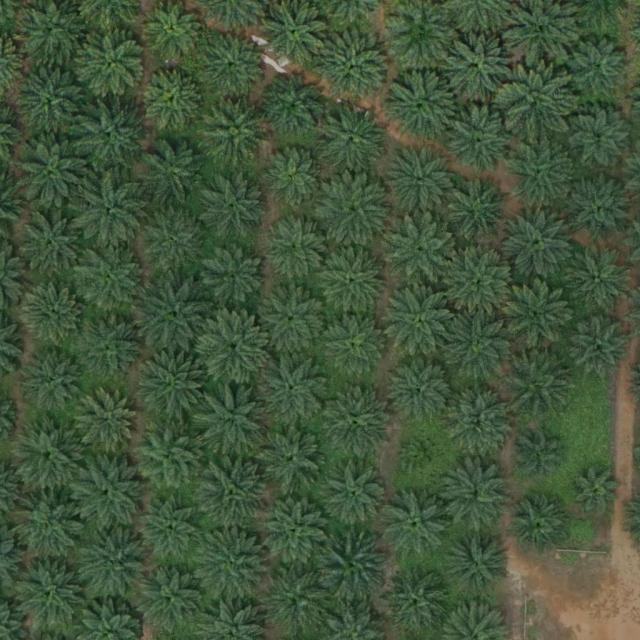Healthy: (319, 32, 390, 103), (385, 145, 456, 216), (386, 286, 457, 357), (320, 176, 391, 247), (141, 281, 212, 352), (75, 101, 146, 172), (14, 559, 85, 630), (260, 566, 331, 637), (379, 566, 450, 637), (77, 29, 147, 100), (199, 96, 269, 167), (388, 69, 458, 140), (562, 242, 633, 312), (504, 209, 574, 280), (507, 279, 577, 350), (506, 346, 576, 417), (447, 105, 517, 176), (447, 249, 518, 319), (445, 386, 515, 457), (317, 105, 388, 175), (321, 248, 391, 319), (262, 355, 332, 426), (198, 173, 268, 244), (140, 136, 210, 207), (137, 351, 207, 422), (77, 177, 147, 248), (76, 314, 146, 385), (16, 207, 86, 278), (12, 420, 82, 491), (133, 421, 203, 492), (137, 562, 207, 633), (199, 458, 269, 529), (199, 531, 269, 602), (262, 498, 332, 569), (381, 490, 452, 560), (441, 463, 512, 533), (19, 64, 89, 134), (197, 32, 267, 102), (445, 28, 515, 98), (502, 67, 572, 137), (506, 140, 576, 210), (444, 308, 514, 378), (388, 218, 458, 288), (322, 389, 392, 459), (259, 287, 329, 357), (200, 313, 270, 383), (198, 383, 268, 453), (138, 207, 208, 277), (77, 244, 147, 314), (18, 138, 88, 208), (14, 493, 84, 563), (76, 458, 146, 528), (79, 528, 149, 598), (258, 424, 328, 494), (319, 534, 389, 604), (444, 528, 514, 598), (569, 110, 632, 173), (569, 175, 632, 238), (450, 179, 513, 242), (20, 284, 83, 347), (325, 464, 388, 527), (143, 69, 205, 132), (262, 74, 324, 137), (568, 36, 630, 99), (570, 317, 632, 380), (391, 359, 453, 422), (324, 316, 387, 378), (262, 149, 325, 211), (265, 220, 328, 282), (205, 247, 267, 310), (78, 389, 140, 452), (24, 350, 86, 413), (140, 500, 202, 563), (513, 498, 568, 553), (519, 435, 566, 483), (572, 467, 619, 514)
Small: (404, 437, 443, 477)
